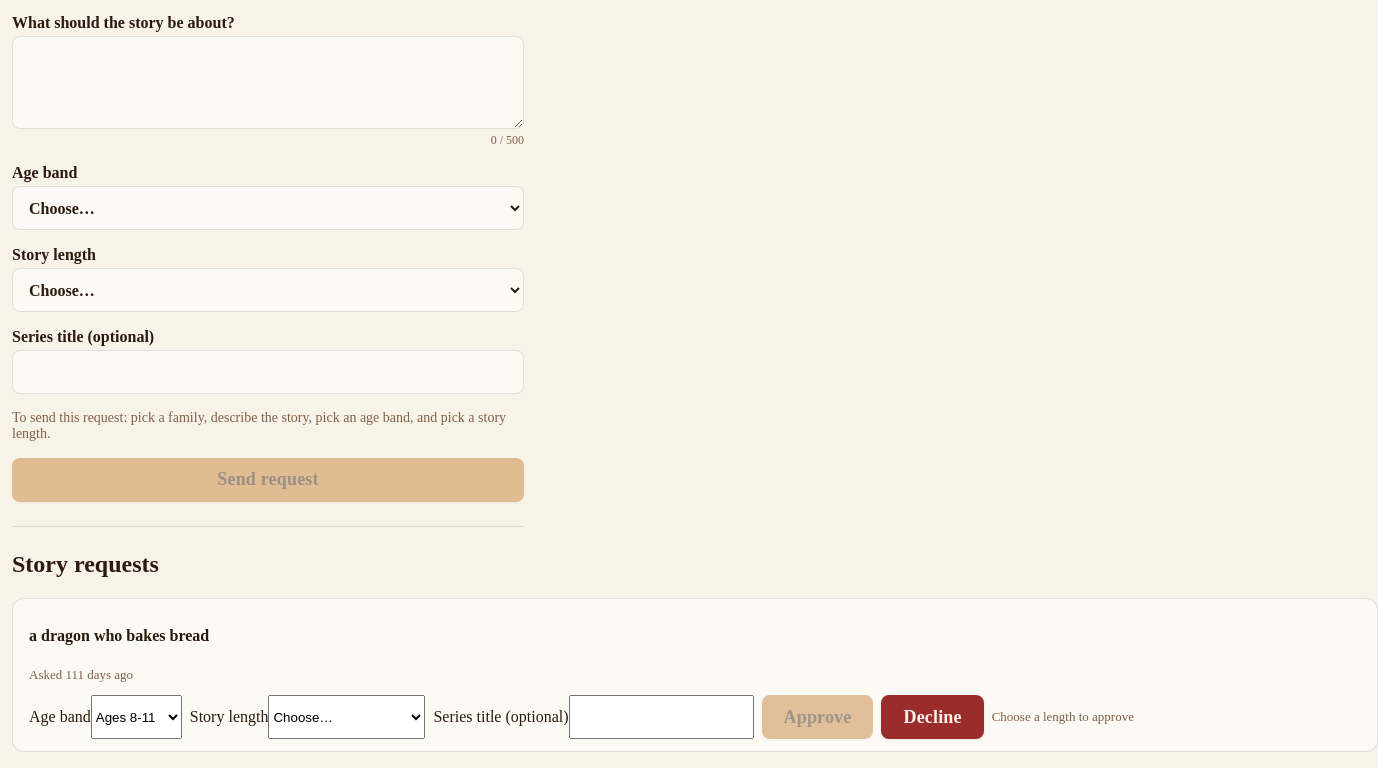
Scenario: AdminRequestsPage › shows the neutral default approve toast, without the guardian tracking hint
(page scrolled)
Check: the text "a dragon who bakes bread" is shown, box [29,627,209,644]
Select "Medium" in the dropdown labelled "Story length" in the row of "Choose a length to approve": (347, 718) [268,696,425,740]
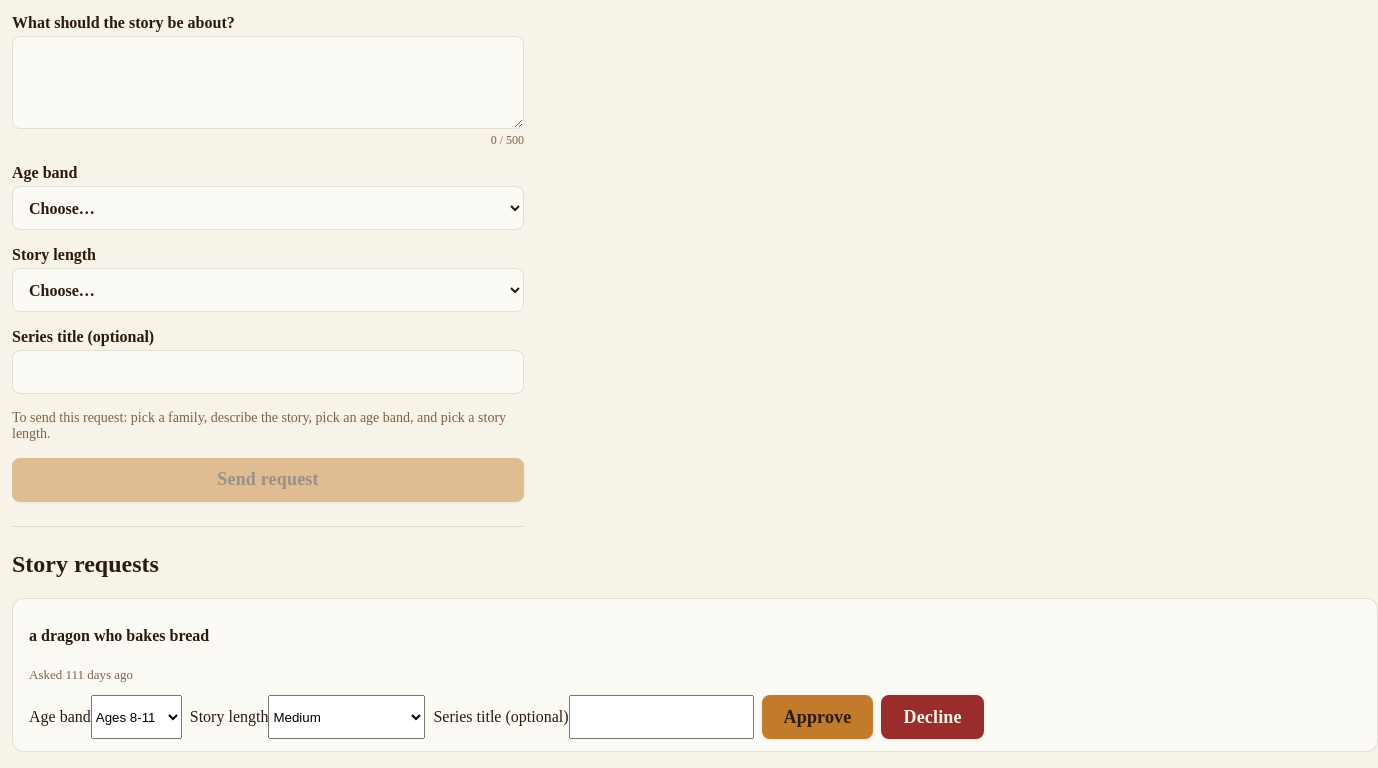
Click the button "Approve": click(817, 718) [762,696,873,740]
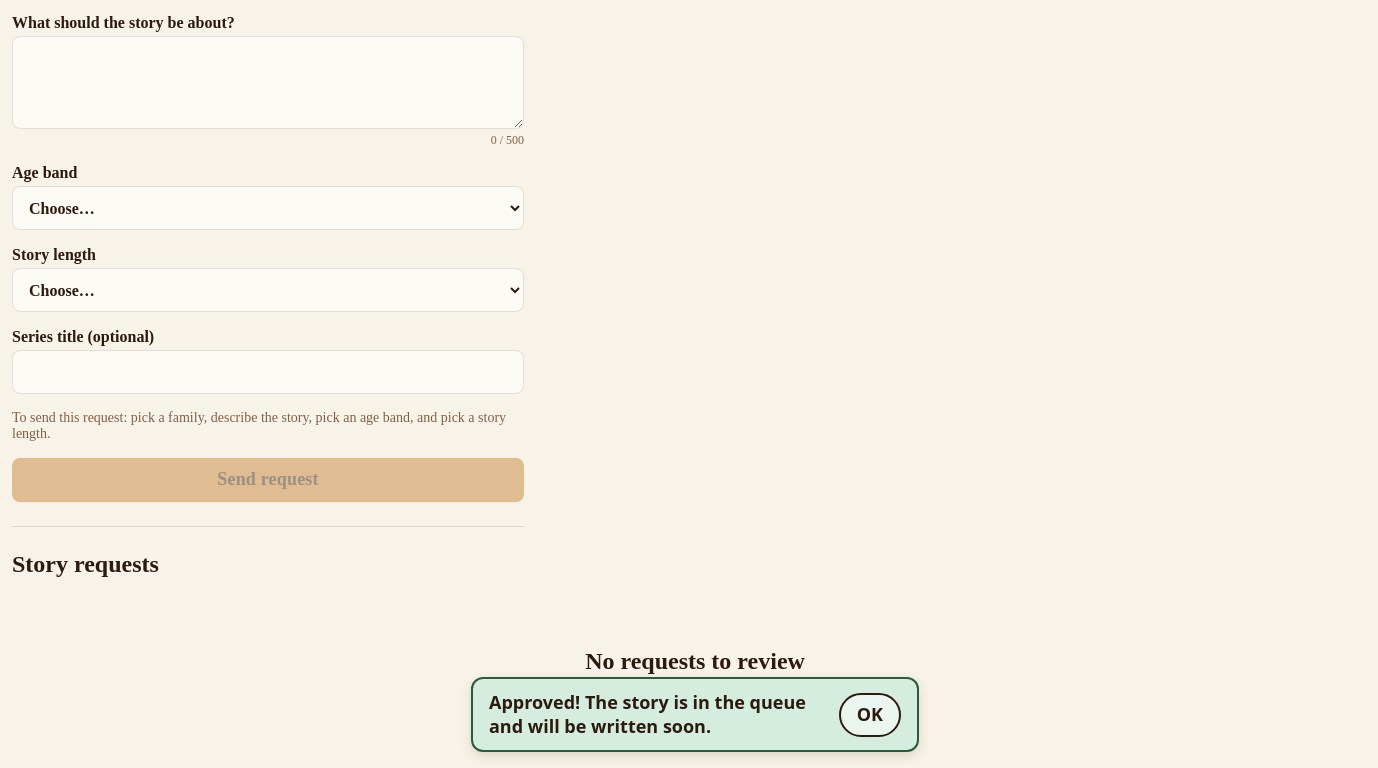
Check: the text "Approved! The story is in the queue and will be written soon." is shown, box [489,691,827,738]
